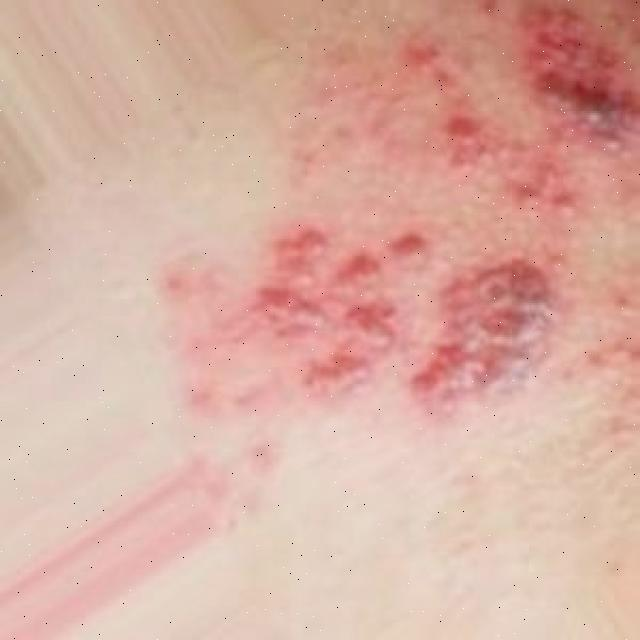Shingles: (262, 218, 553, 418), (398, 0, 637, 205)
